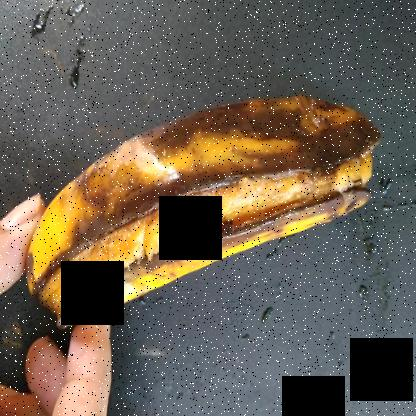rotten: (15, 62, 396, 352)
